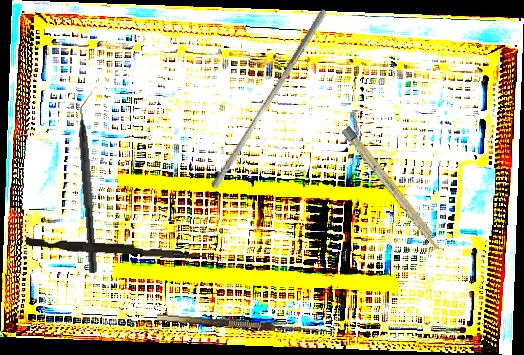Chopper: (73, 89, 110, 275)
Hook Surgical: (156, 304, 328, 336)
Pusher: (209, 2, 329, 195), (25, 237, 204, 260)
Scalpel Handle: (341, 125, 444, 253)
